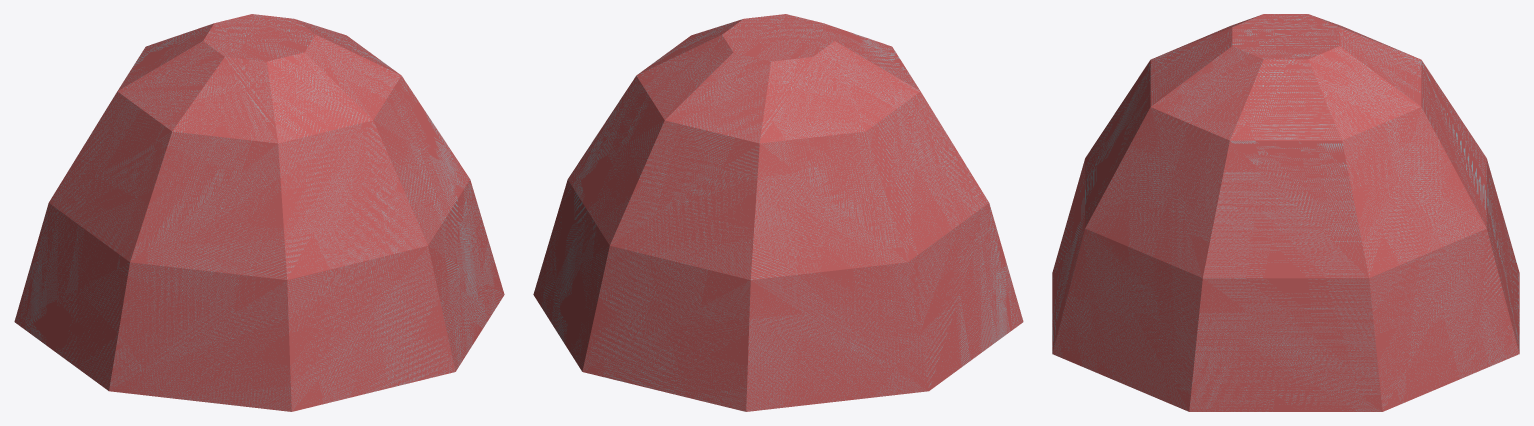
File: Coral_Dome_01.fbx
3 renders of one model, left to right at view 1: azimuth 30°, elevation 25°; view 2: azimuth 150°, elevation 25°; view 3: azimuth 270°, elevation 25°, orthographic. The views are drawn at different scales.
Parts seen in each view (by area): view 1: Model; view 2: Model; view 3: Model.
Part boxes in pixels (<box>): Model: <box>14,14,504,411</box>; Model: <box>533,14,1023,411</box>; Model: <box>1052,14,1519,411</box>.
Bounding box in the file's own units: 88.52 × 57.85 × 88.52.
